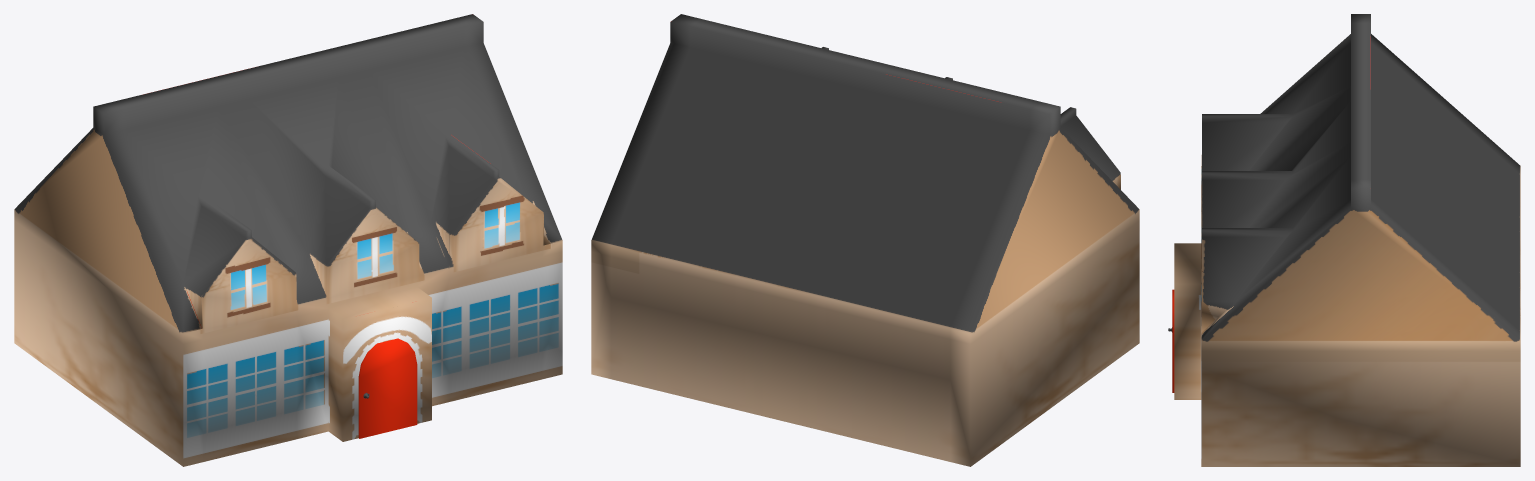
The model's file is house7.glb.
3 renders of one model, left to right at view 1: azimuth 30°, elevation 25°; view 2: azimuth 150°, elevation 25°; view 3: azimuth 270°, elevation 25°, orthographic. The views are drawn at different scales.
Visible parts, largest first — view 1: house7, house7DOOR; view 2: house7; view 3: house7.
Boxes of the visible parts, <box> form: house7: <box>14,14,562,466</box>; house7DOOR: <box>358,338,417,438</box>; house7: <box>591,14,1139,466</box>; house7: <box>1174,14,1520,466</box>.
Bounding box in the file's own units: 5.76 × 4.27 × 4.91.
1 material, 1 textured.
